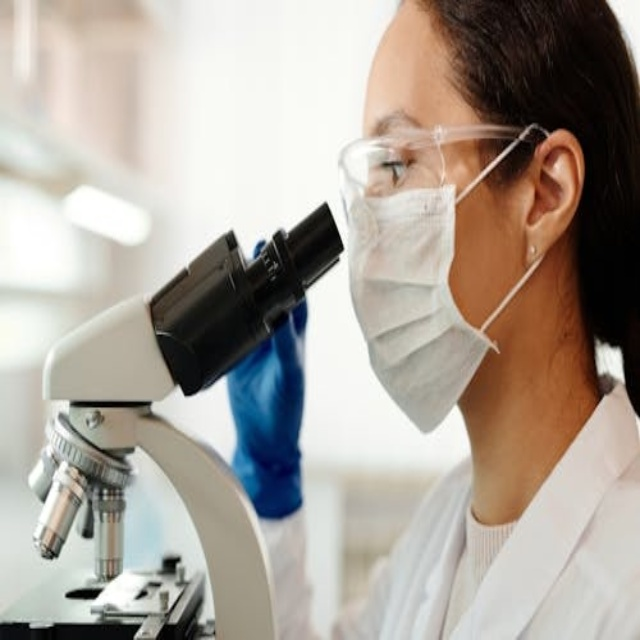Gafas: (336, 121, 545, 230)
Guantes: (225, 239, 308, 519)
Mascara: (347, 139, 517, 435)
